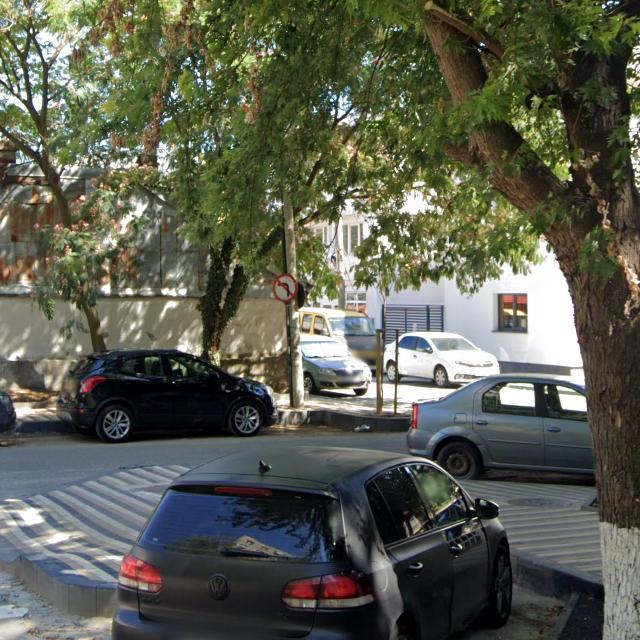forb_left: (273, 274, 297, 302)
